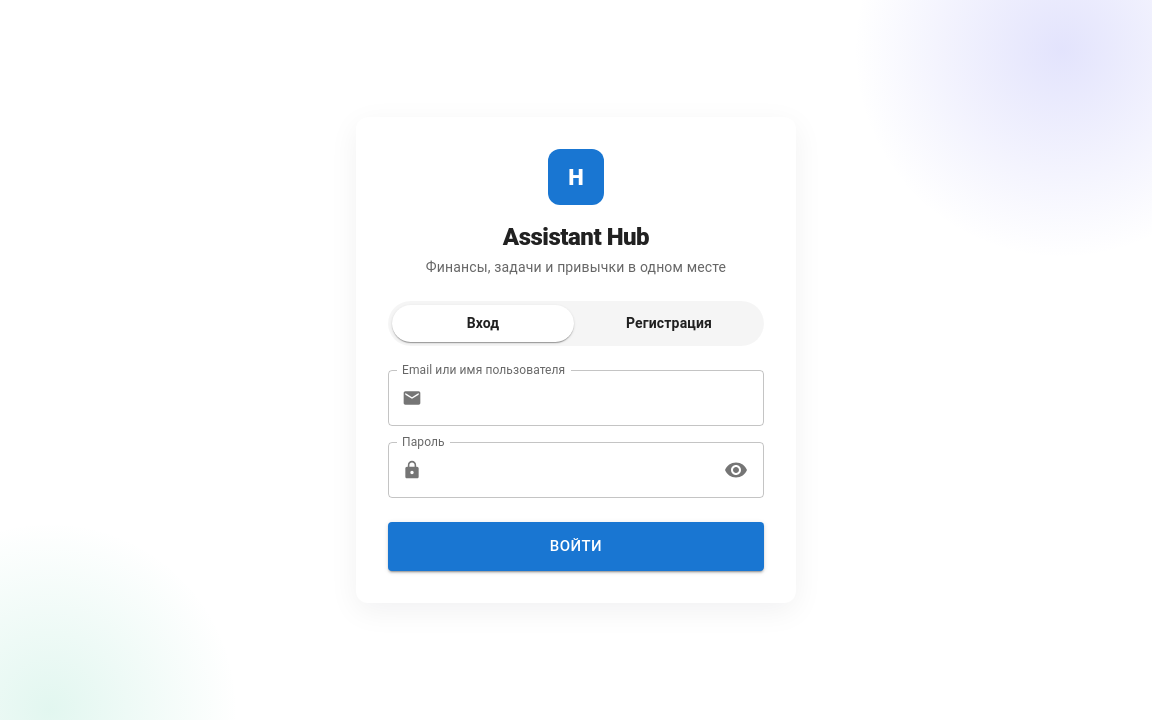
it: Login page buttons › shows validation error when login fields empty
Click the button "Войти": coordinates (576, 546) [388,522,764,571]
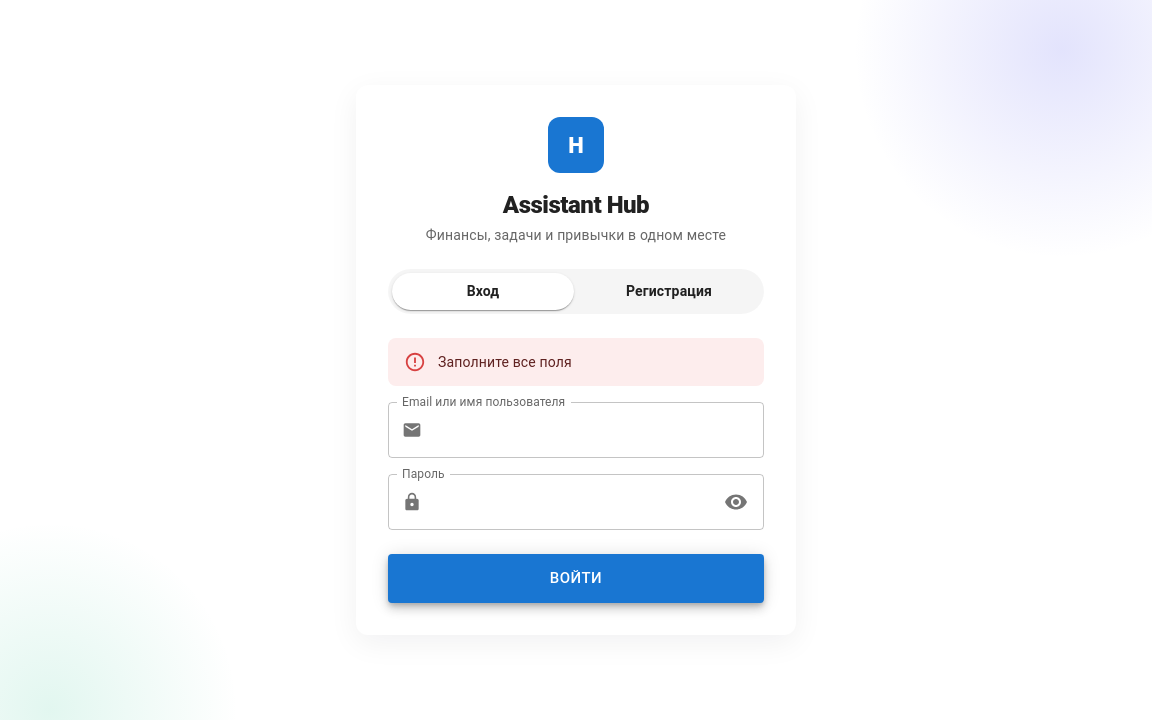
Result: the text "Заполните все поля" is shown at [438,354,572,370]
